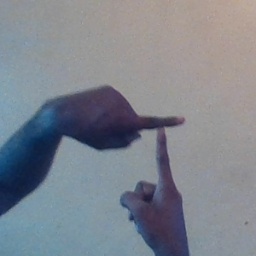T: (112, 95, 205, 203)
